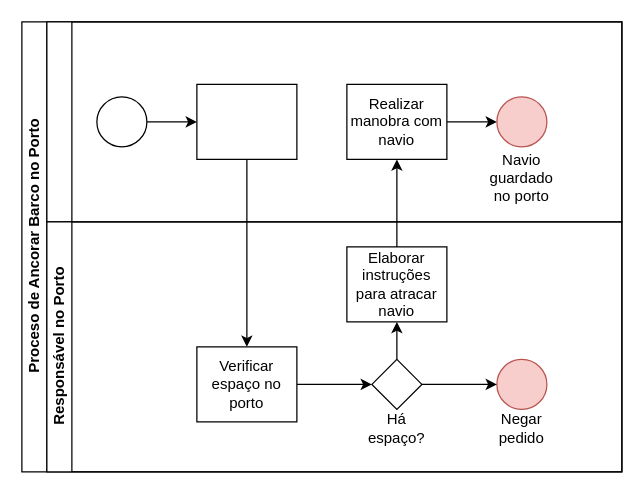
The diagram is 644 pixels wide and 494 high, and some of its shapes have lost their labels. Each missing label, with the box of its shape:
Capitão do Navio: (46, 21, 622, 222)
Solicitar espaço no porto: (196, 83, 297, 159)
